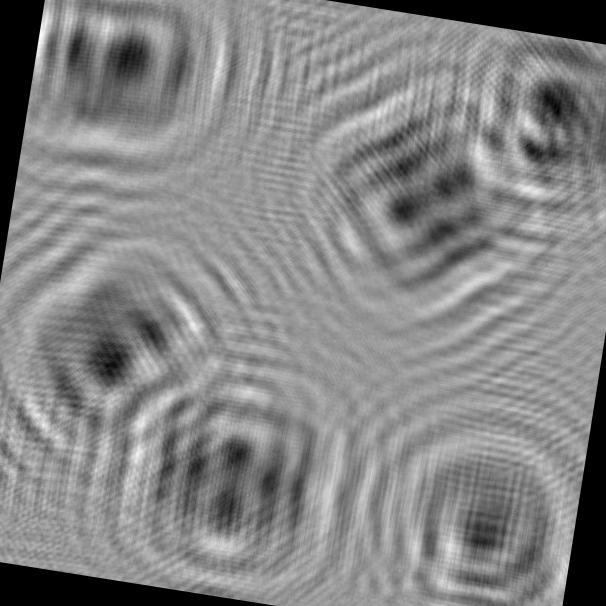F: (0, 209, 270, 524), (17, 0, 261, 203), (429, 21, 606, 261)
H: (244, 29, 576, 364), (84, 332, 382, 606)
J: (334, 385, 591, 606)
